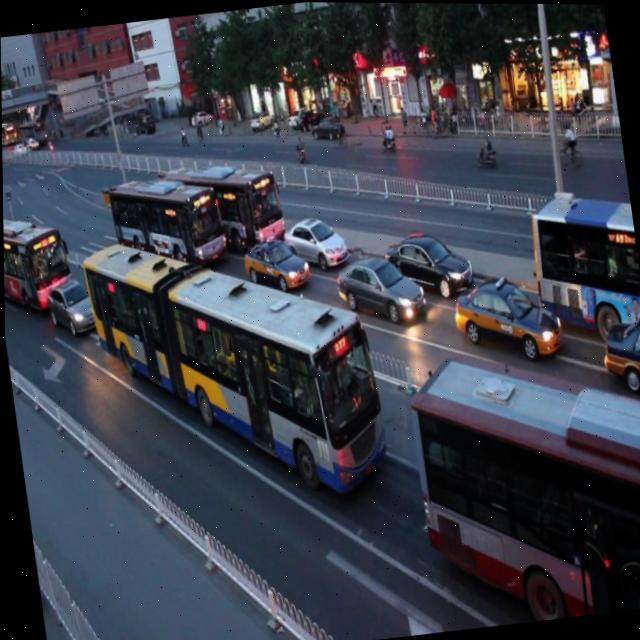car: (447, 264, 563, 371), (329, 242, 422, 330), (381, 220, 473, 301), (236, 225, 308, 295), (276, 204, 346, 274), (42, 271, 103, 338), (596, 304, 640, 388)
van: (77, 209, 391, 520), (404, 328, 640, 632), (523, 182, 640, 342), (102, 160, 227, 282), (160, 145, 286, 260), (2, 201, 71, 305)
